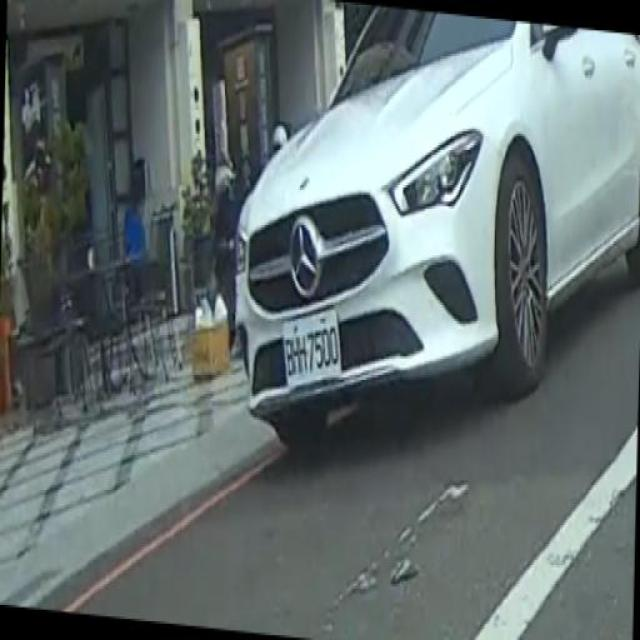Legalparking: (216, 3, 637, 570)
